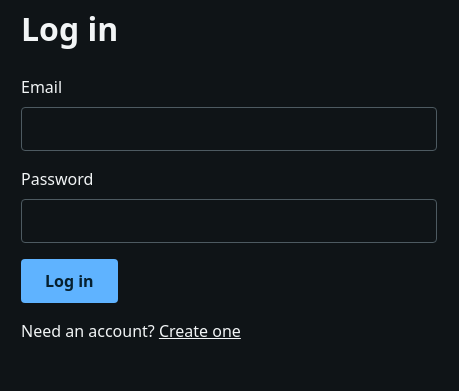
Test case: Login (S-03, docs/32_UX/Screen_Inventory.md §3) › states the lock expiry rather than only 'locked'
Type "alice@example.com" into the field labelled "Email" at [229, 129], box [21,107,437,151]
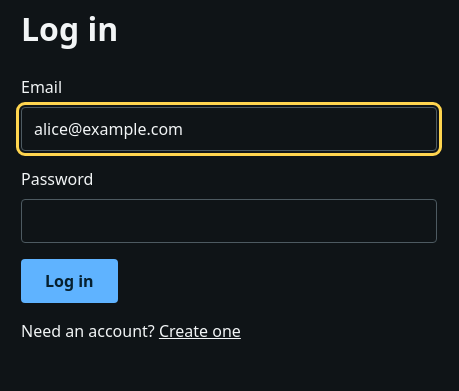
Type "whatever" into the password field labelled "Password" at [229, 221], box [21,199,437,243]
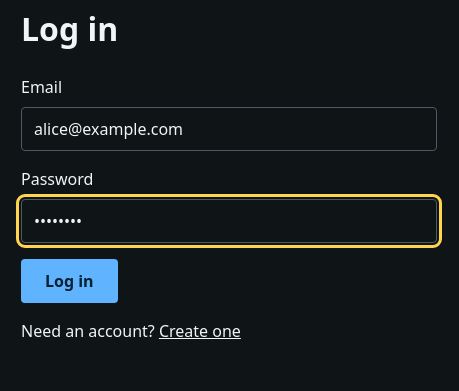
Click the button "Log in" at [69, 281], box [21,259,118,303]
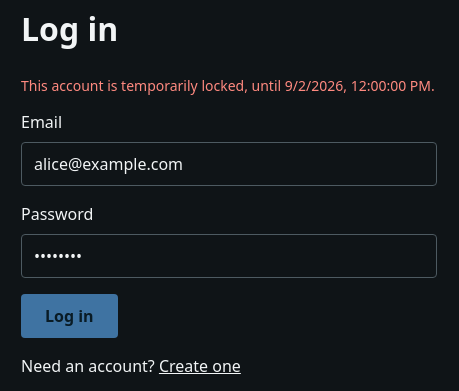
Check: the message shows "temporarily locked", box [21,76,285,95]
Check: the button "Log in" is disabled, box [21,294,118,338]
